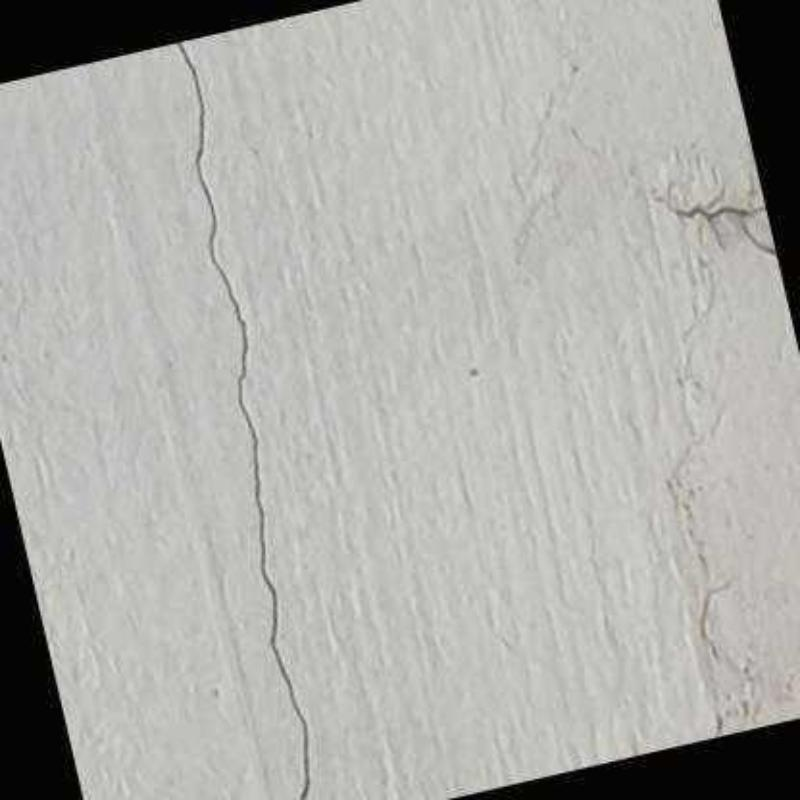crack: (175, 39, 312, 798), (654, 183, 777, 256)
